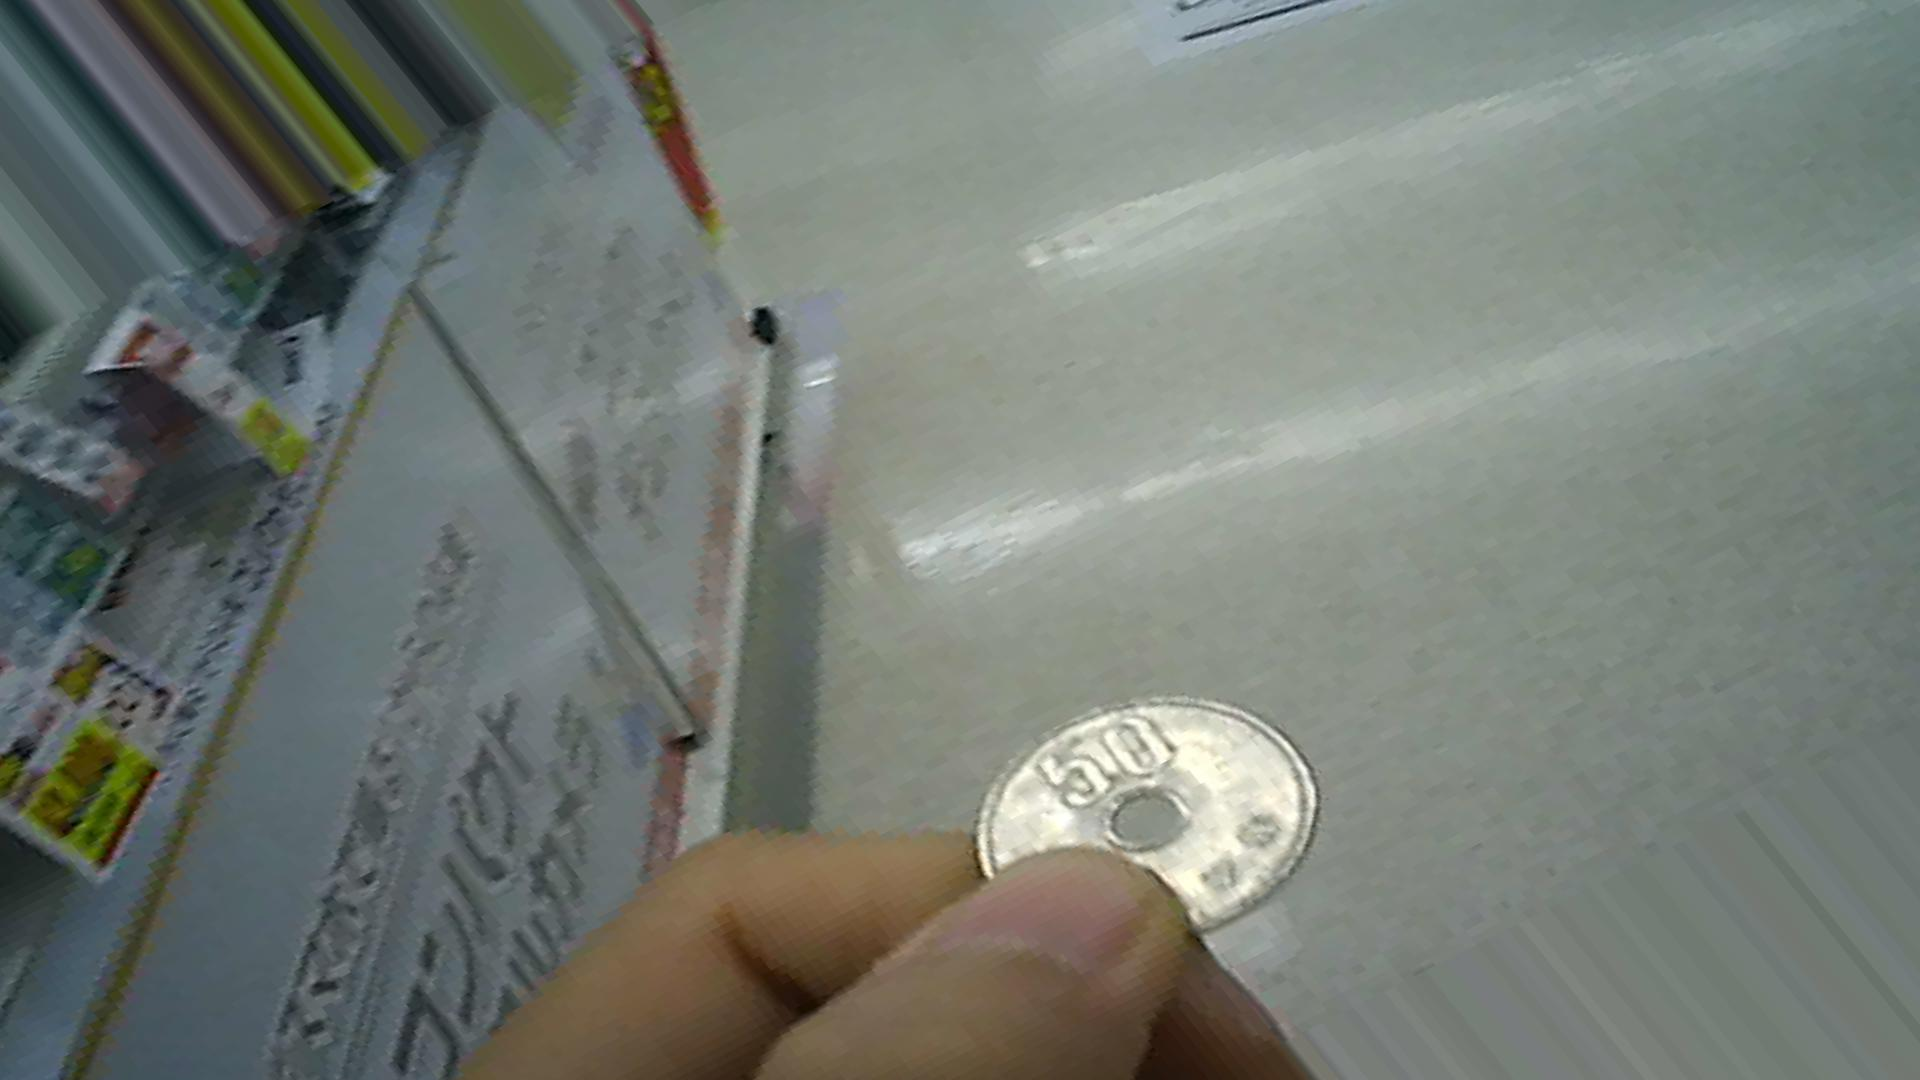50 Yen: (992, 692, 1316, 934)
